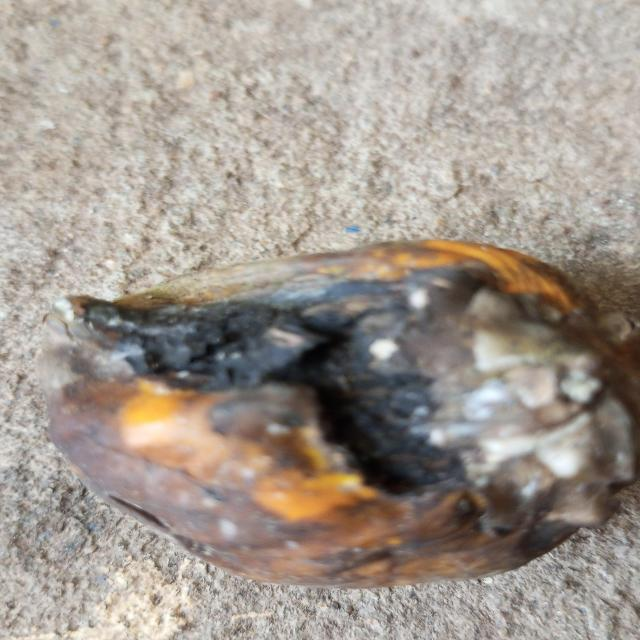damaged: (37, 239, 640, 592)
